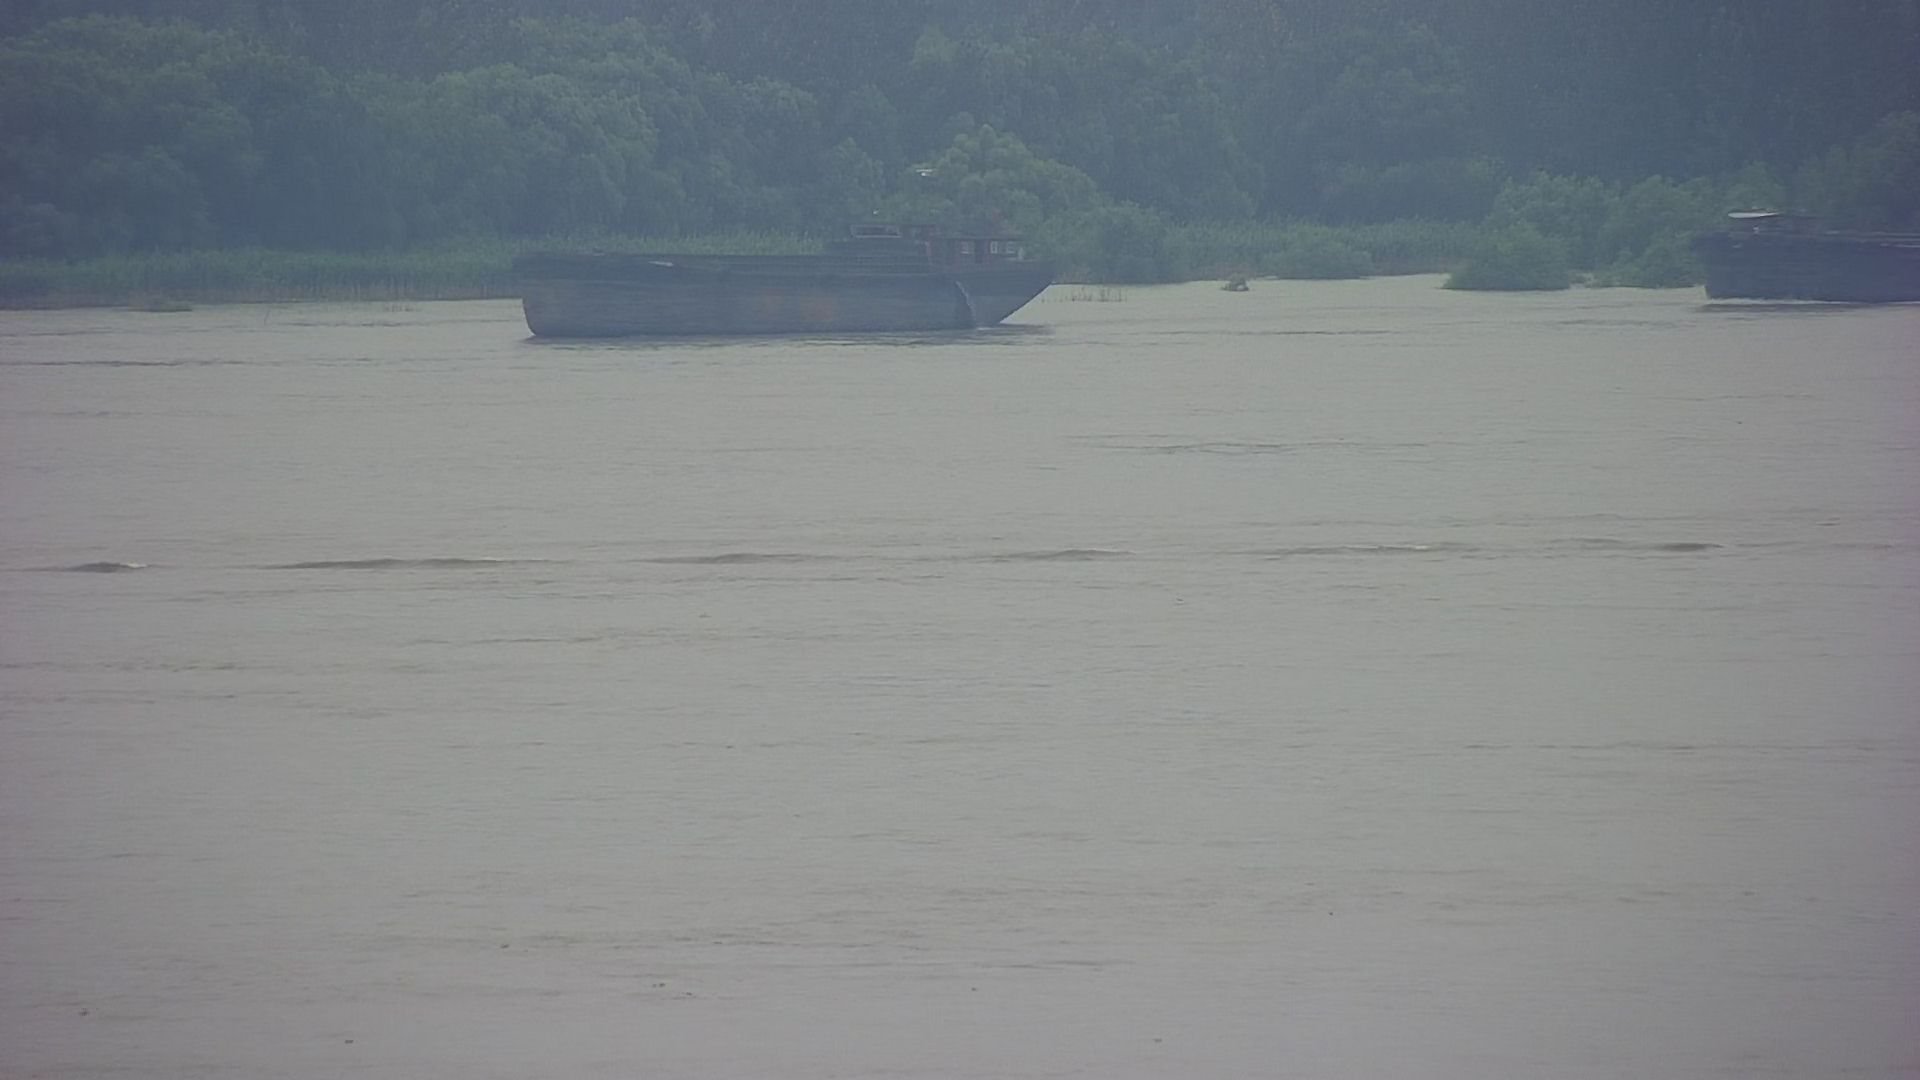ship: (484, 203, 1064, 357), (1671, 191, 1920, 339)
